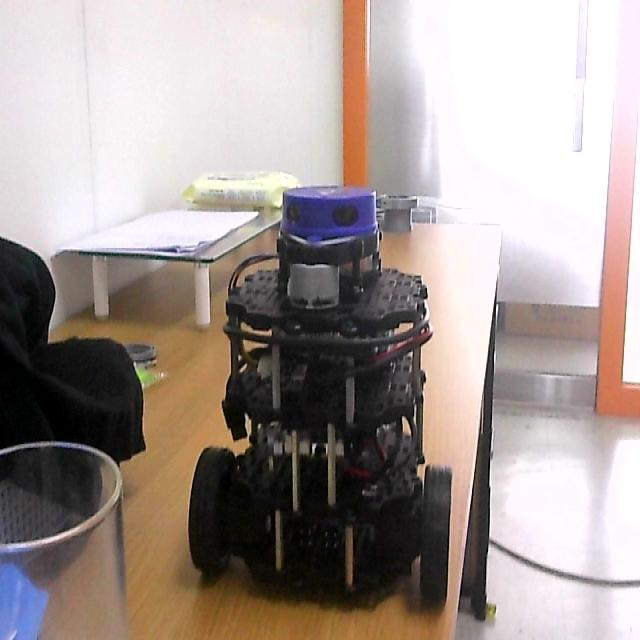turtle: (187, 184, 455, 617)
